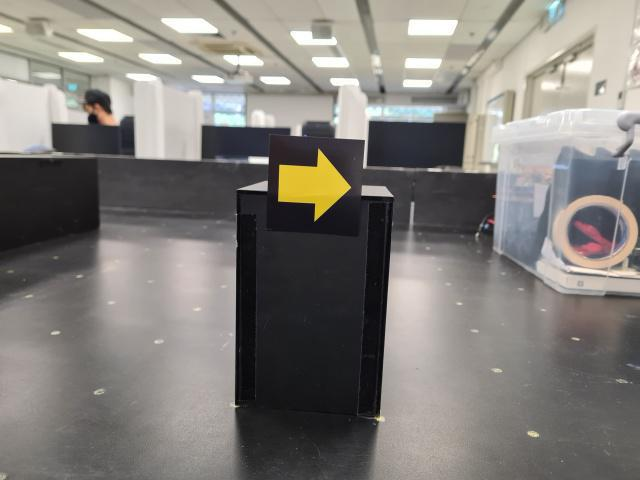right: (268, 133, 365, 233)
